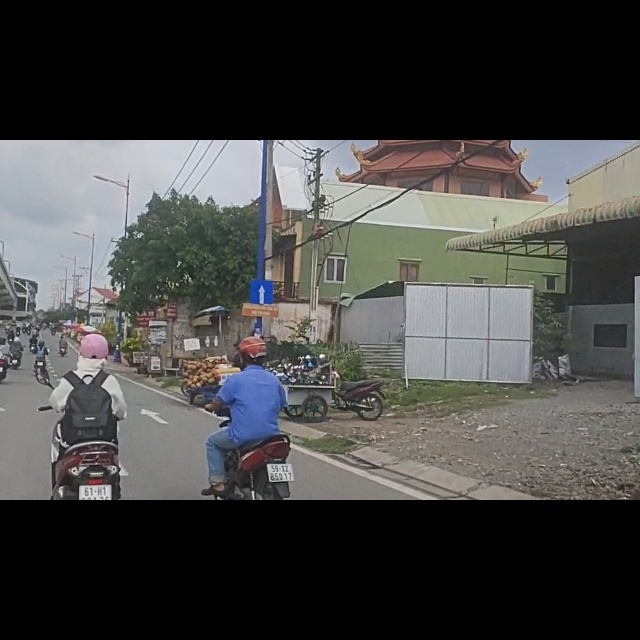bien_cam: (251, 247, 274, 293)
